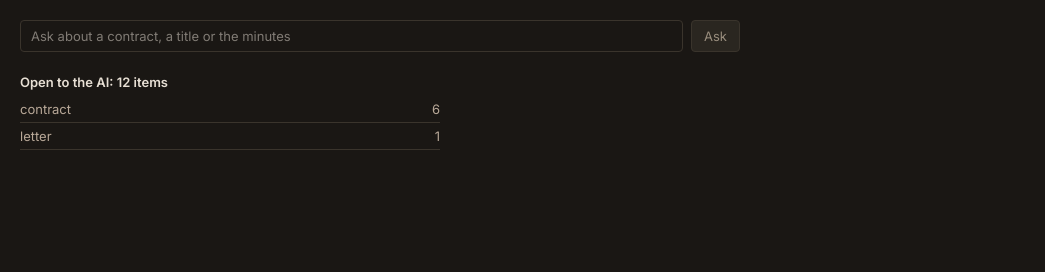
Test: AskPage › shows no withheld line and no staff-only list when the response has none
Type "Who gets subsidiary rights income?" into the field named "Question" at (352, 36), box top-left (20, 20), bottom-right (683, 52)
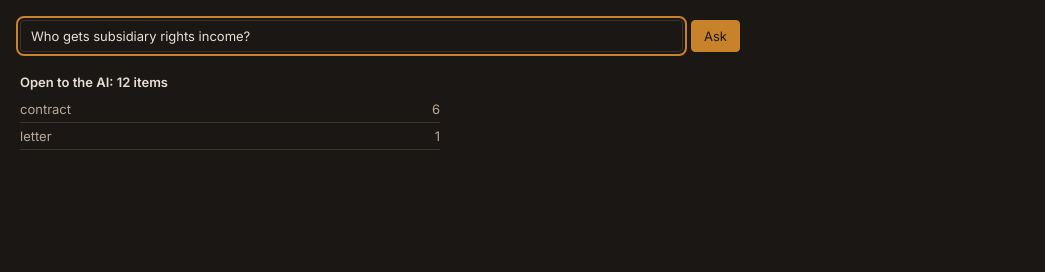
Click the button "Ask" at (716, 36), box top-left (691, 20), bottom-right (740, 52)
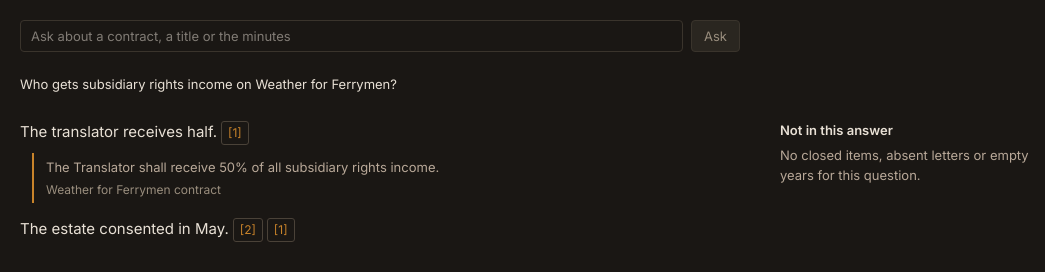
expect the element named "Answer" is shown: met, box top-left (20, 120), bottom-right (740, 256)
